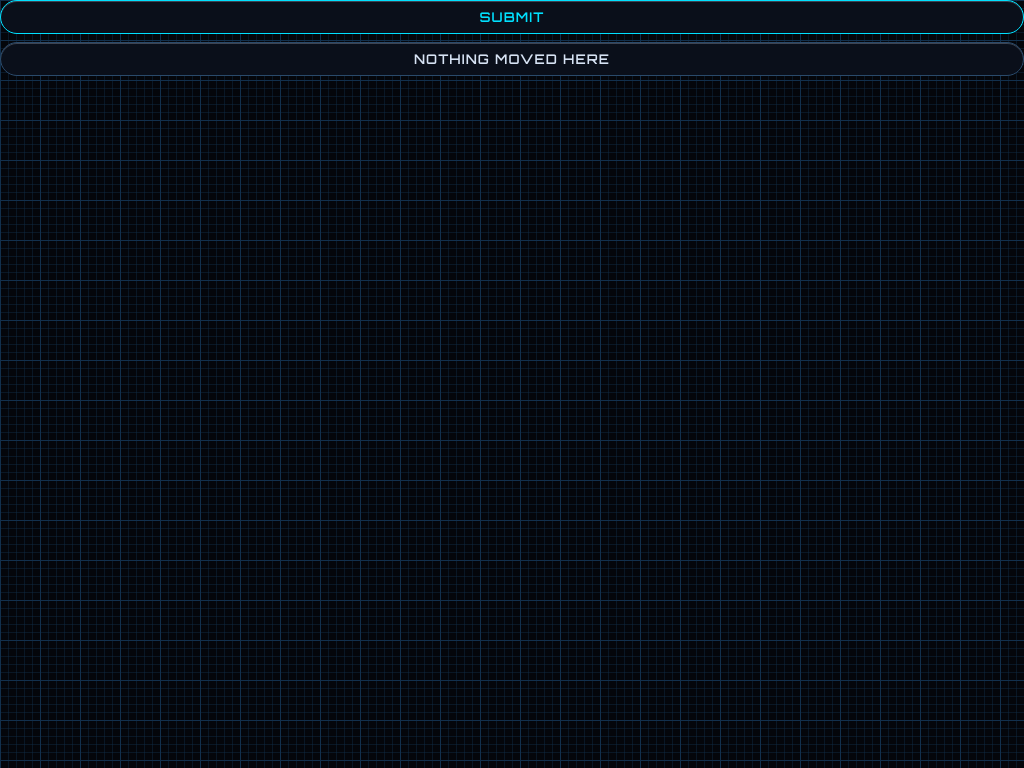
Test: SubmitBar › sends the marks, renders the verdict with the server rate, and records a guest find
The width and height of the screenshot is (1024, 768).
Click the button "Submit" at (512, 17), box [0, 0, 1023, 34]
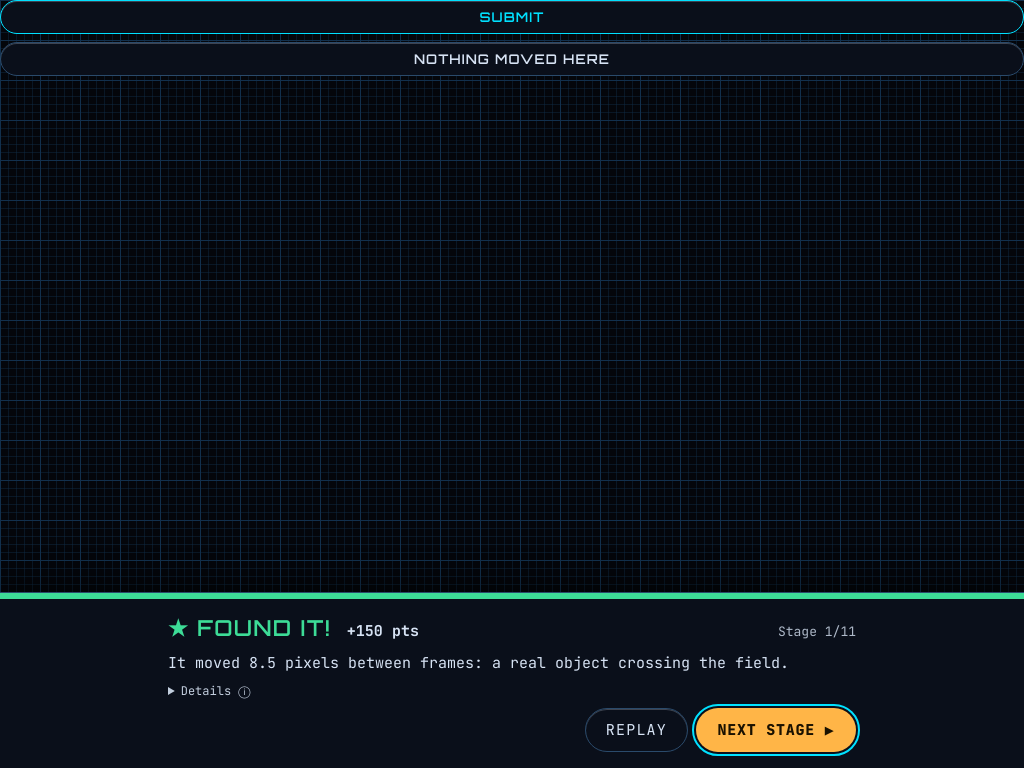
Expected: the dialog with test id "verdict" shows "FOUND IT", [168, 614, 331, 640]
Expected: the dialog with test id "verdict" shows "+150", [0, 592, 1023, 767]
